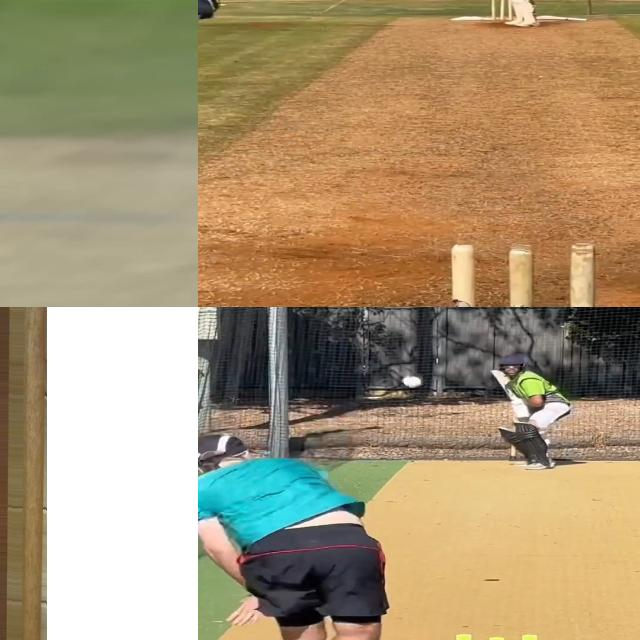Cricket ball: (400, 374, 424, 388)
Stumps: (0, 307, 51, 640), (449, 241, 593, 307)
